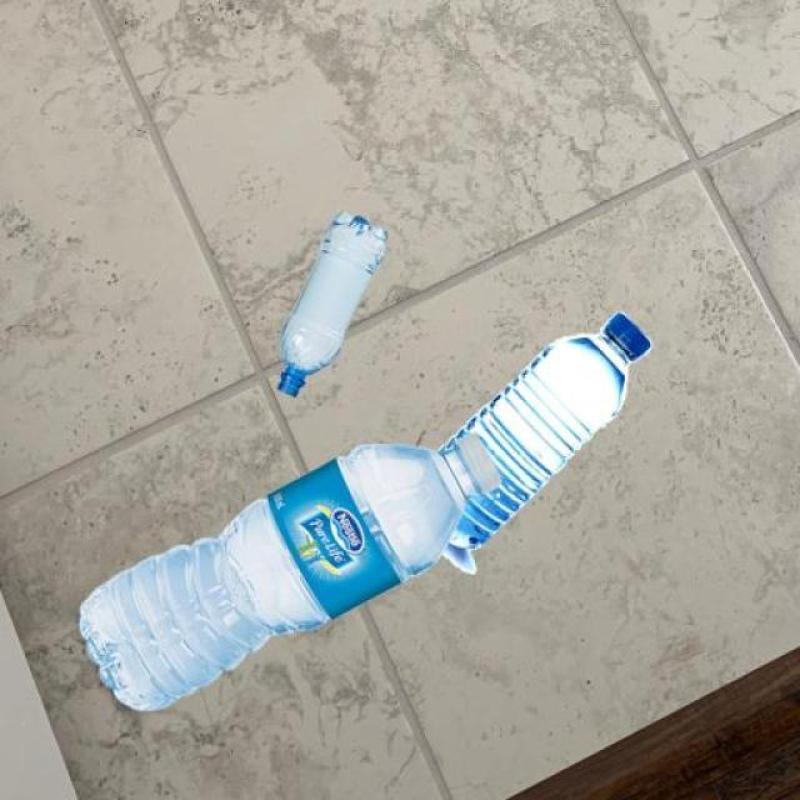botella: (79, 436, 503, 712), (428, 311, 657, 554), (277, 213, 388, 398)
